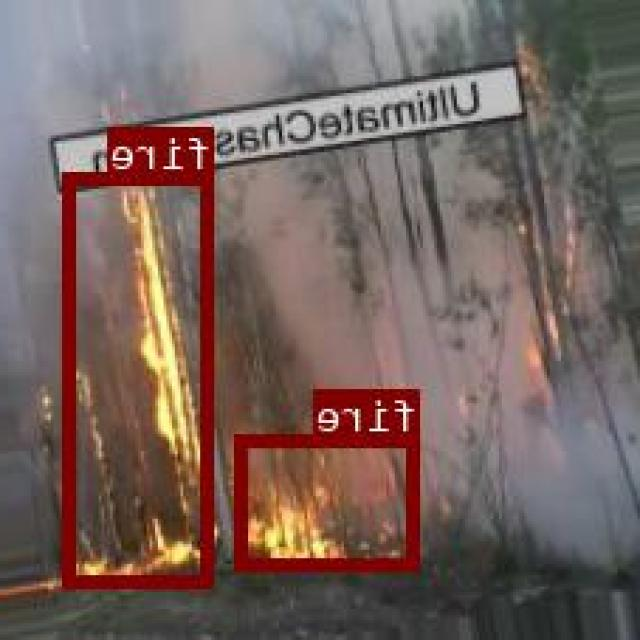fire: (65, 170, 216, 586), (237, 432, 421, 568)
